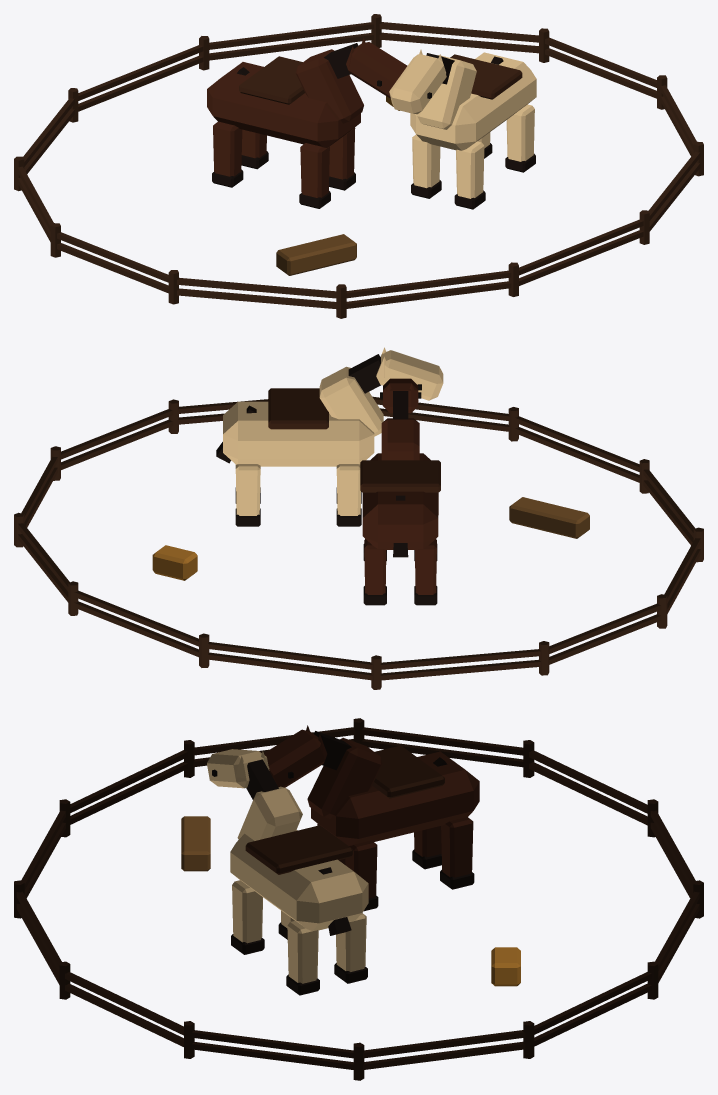
The model's file is pasture.obj.
The picture shows the model from 3 angles, top to bottom: view 1: azimuth 30°, elevation 25°; view 2: azimuth 150°, elevation 25°; view 3: azimuth 270°, elevation 25°; orthographic projection. The views are drawn at different scales.
Visible parts, largest first — view 1: core_wood, core_horse, core_white, core_leather, core_horse_dark, core_plank; view 2: core_wood, core_white, core_horse, core_leather, core_horse_dark, core_plank, core_hay; view 3: core_wood, core_horse, core_white, core_leather, core_horse_dark, core_plank, core_hay.
Part boxes in pixels (box(x1,y1,x2,y2)): core_wood: box(14, 14, 703, 318); core_horse: box(207, 38, 407, 197); core_white: box(389, 49, 536, 198); core_leather: box(239, 54, 522, 104); core_horse_dark: box(212, 43, 535, 209); core_plank: box(276, 234, 356, 275); core_wood: box(14, 396, 703, 689); core_white: box(223, 347, 443, 515); core_horse: box(362, 378, 438, 594); core_leather: box(268, 388, 440, 492); core_horse_dark: box(216, 354, 437, 605); core_plank: box(509, 497, 589, 538); core_hay: box(152, 545, 197, 580); core_wood: box(14, 718, 703, 1080); core_horse: box(264, 725, 479, 898); core_white: box(207, 749, 368, 983); core_leather: box(245, 745, 444, 874); core_horse_dark: box(231, 731, 474, 995); core_plank: box(181, 816, 210, 871); core_hay: box(491, 947, 520, 986).
Size of the model in its own units: 1.06 by 0.2625 by 0.9345.
